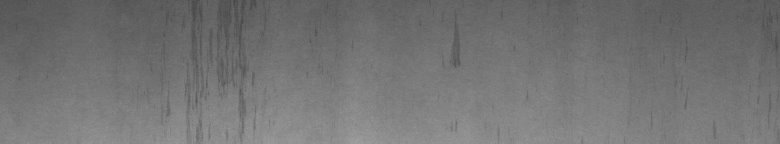ka: (167, 4, 255, 136)
